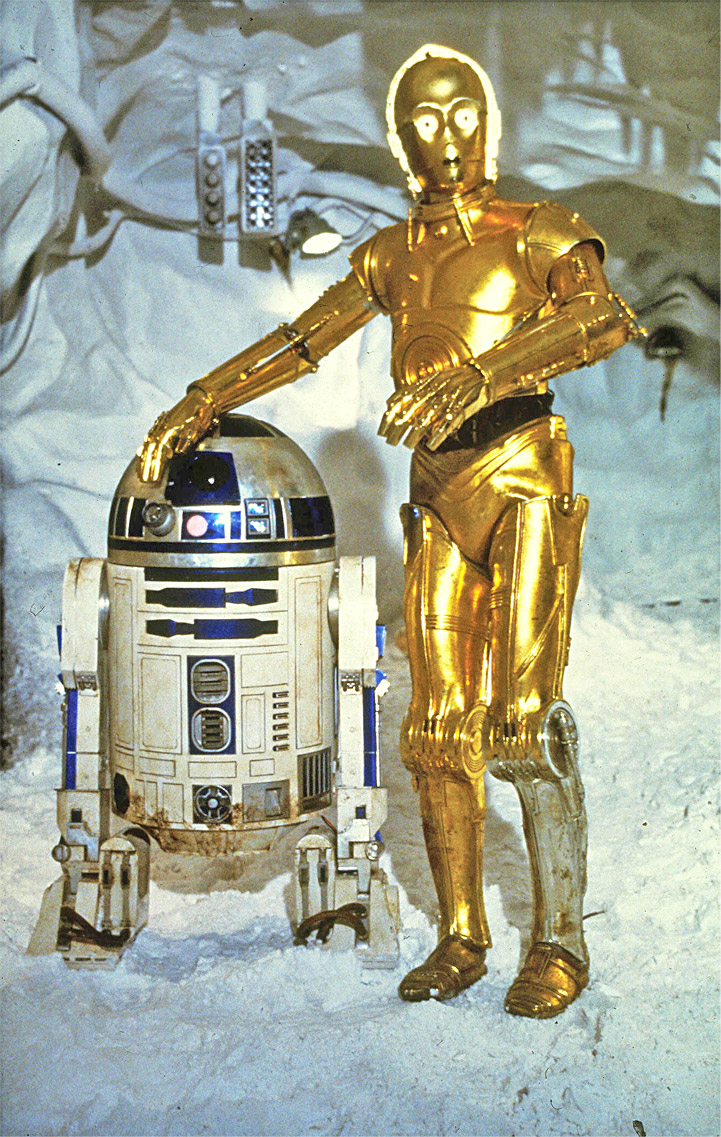r2d2: (26, 413, 403, 968)
